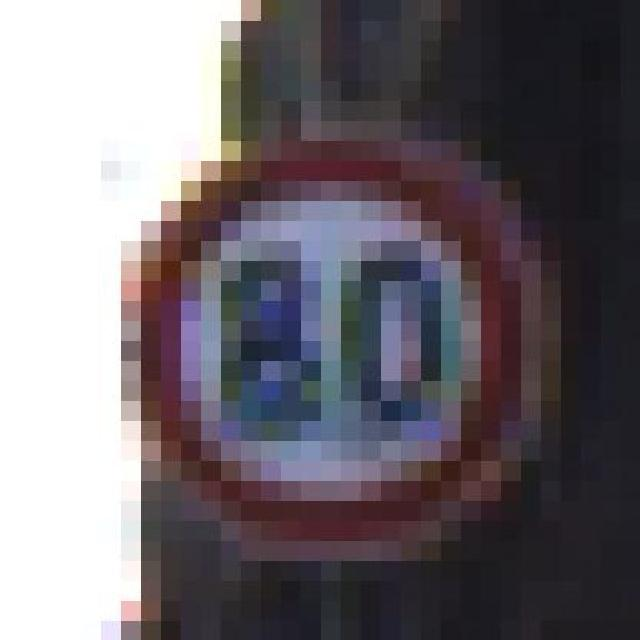forb_speed_over_80: (126, 137, 534, 548)
